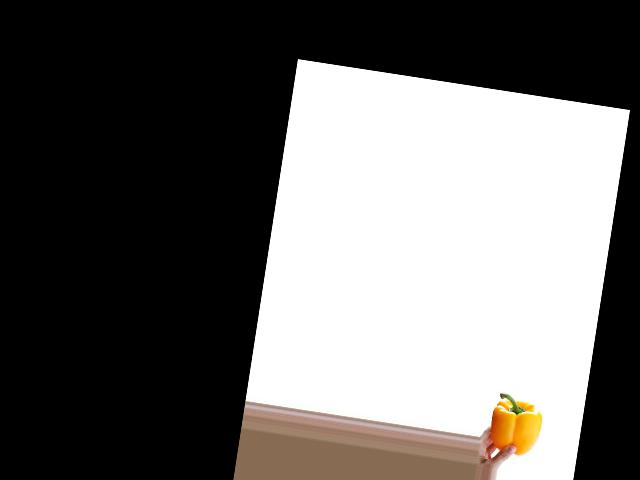bell_pepper: (487, 389, 547, 459)
